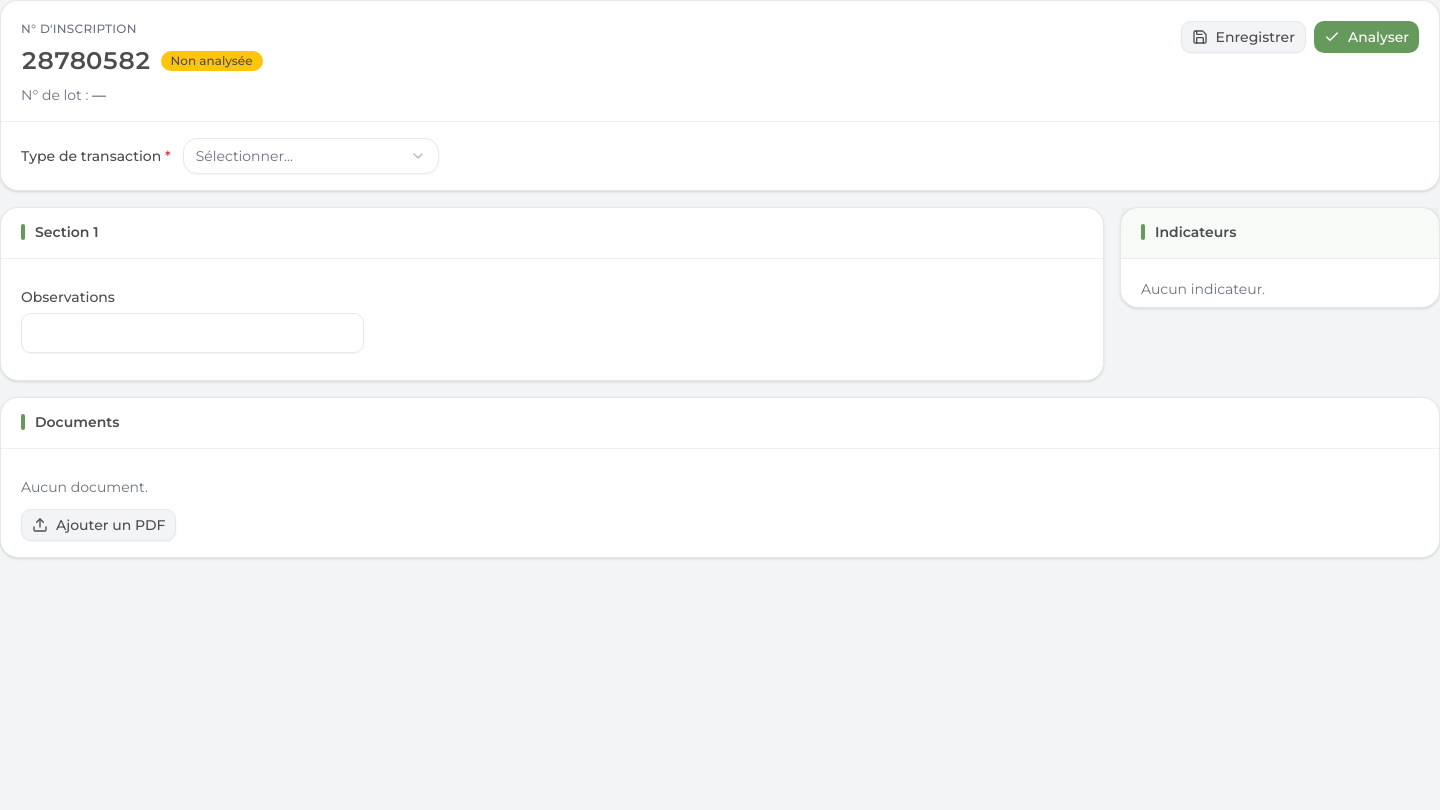
Test: FicheTransactionClient — enregistrement › surfaces a blocking validation error under the offending field
Click the button "Enregistrer". click: (1243, 37)
box: [1181,21,1306,53]
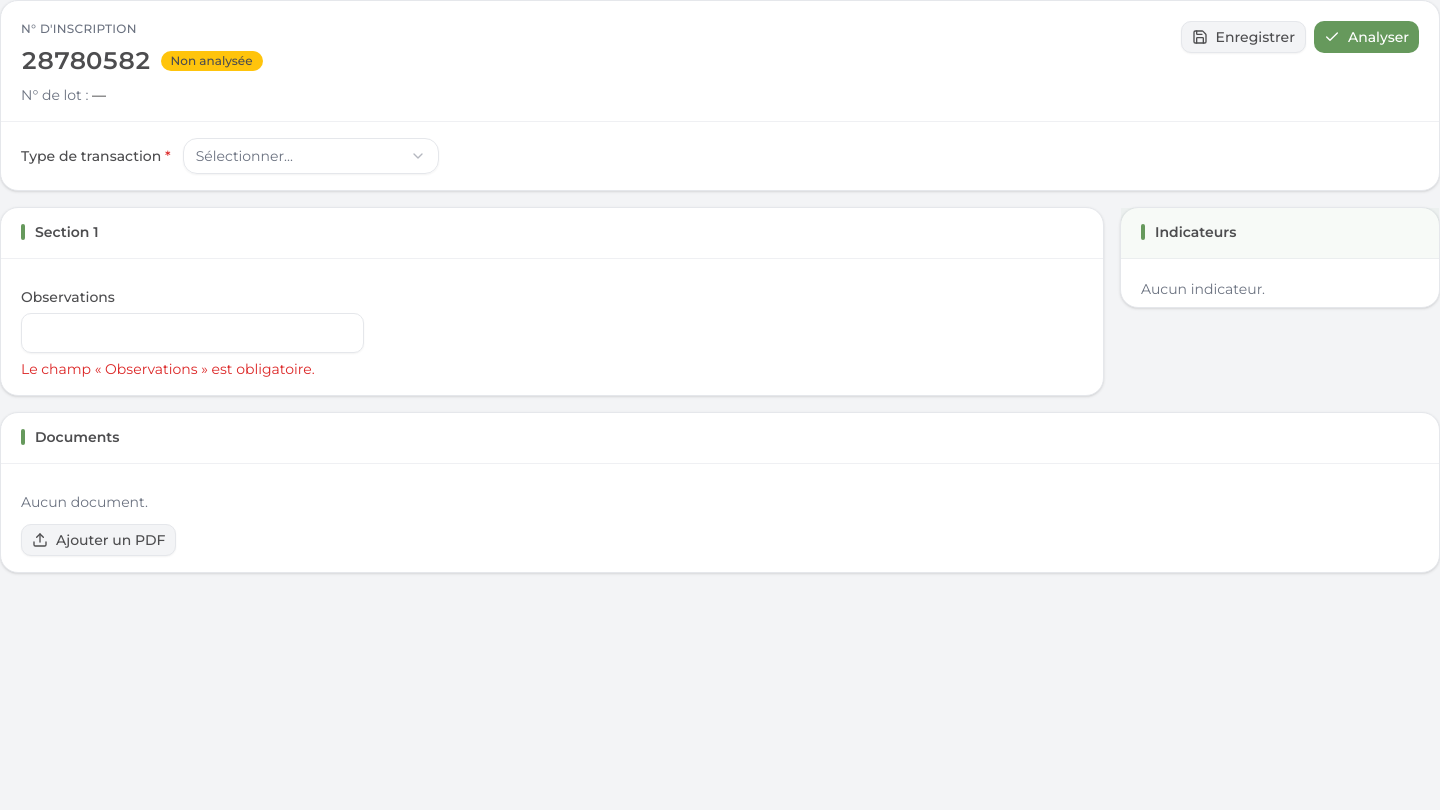
Check: the text "Le champ « Observations » est obligatoire." is shown, box [21,359,364,379]
